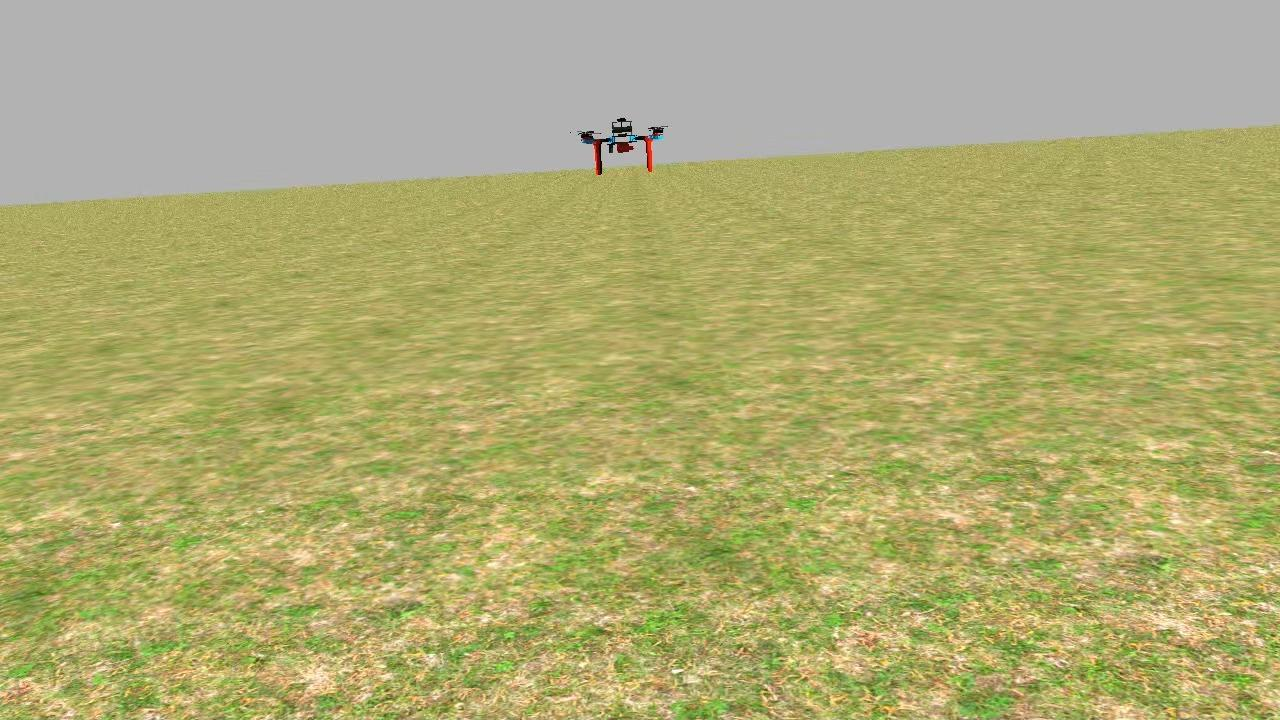UAV: (566, 111, 682, 182)
